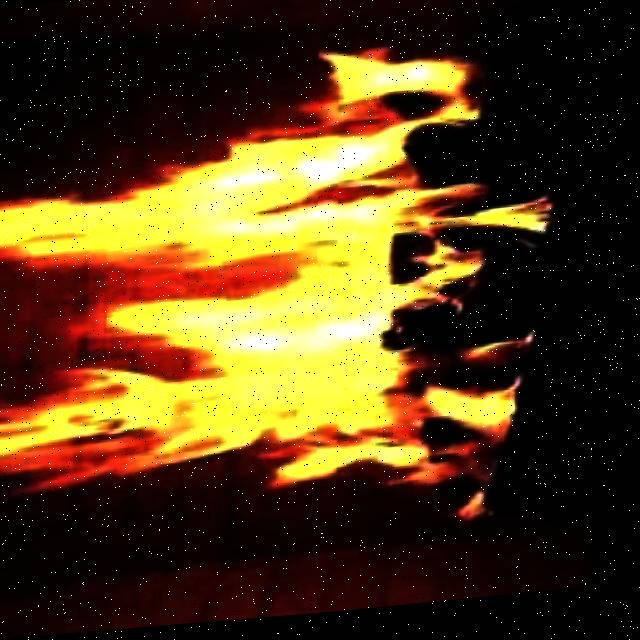Fire: (0, 20, 584, 573)
